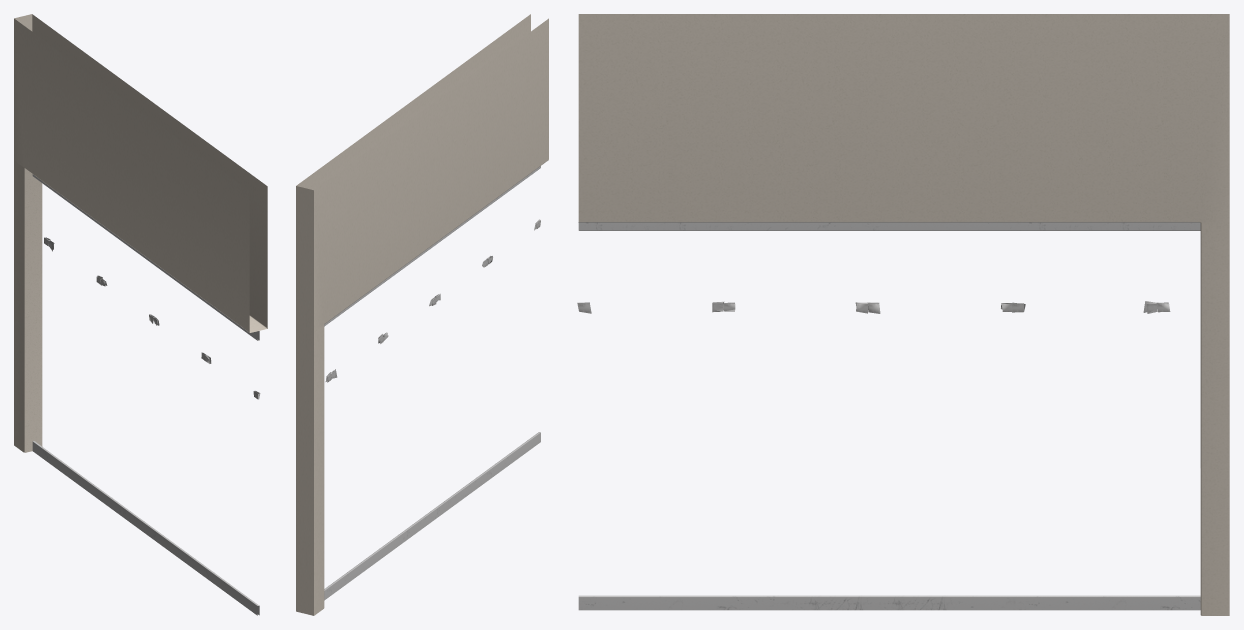
The model's file is SM_Office_Wall01ae.fbx.
3 views of the same model, side by side, from view 1: azimuth 30°, elevation 25°; view 2: azimuth 150°, elevation 25°; view 3: azimuth 270°, elevation 25° (orthographic). The views are drawn at different scales.
Parts seen in each view (by area): view 1: SM_Office_Wall01ae_LOD0; view 2: SM_Office_Wall01ae_LOD0; view 3: SM_Office_Wall01ae_LOD0.
Boxes of the visible parts, <box> form: SM_Office_Wall01ae_LOD0: <box>14,14,267,615</box>; SM_Office_Wall01ae_LOD0: <box>296,14,548,615</box>; SM_Office_Wall01ae_LOD0: <box>577,14,1229,615</box>.
Size of the model in its own units: 19.94 by 451 by 450.
